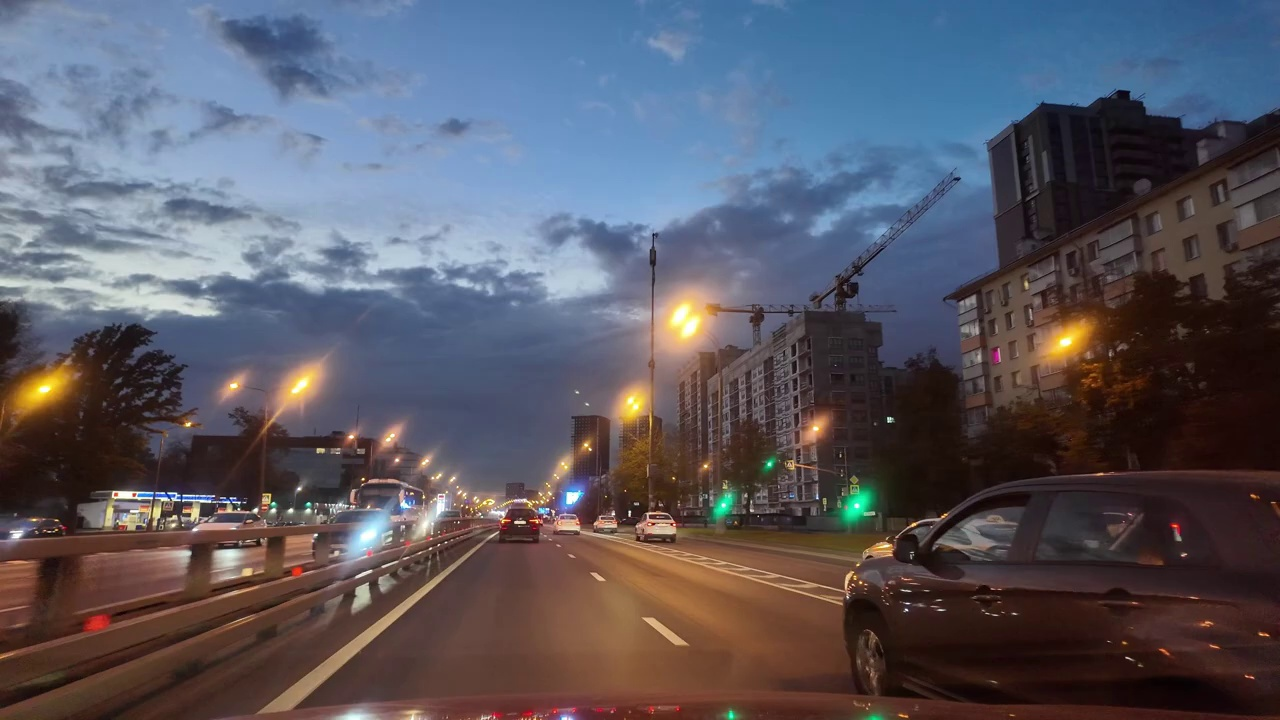acesa: (665, 295, 711, 347), (1045, 321, 1097, 366), (284, 363, 323, 408), (618, 386, 650, 421)
